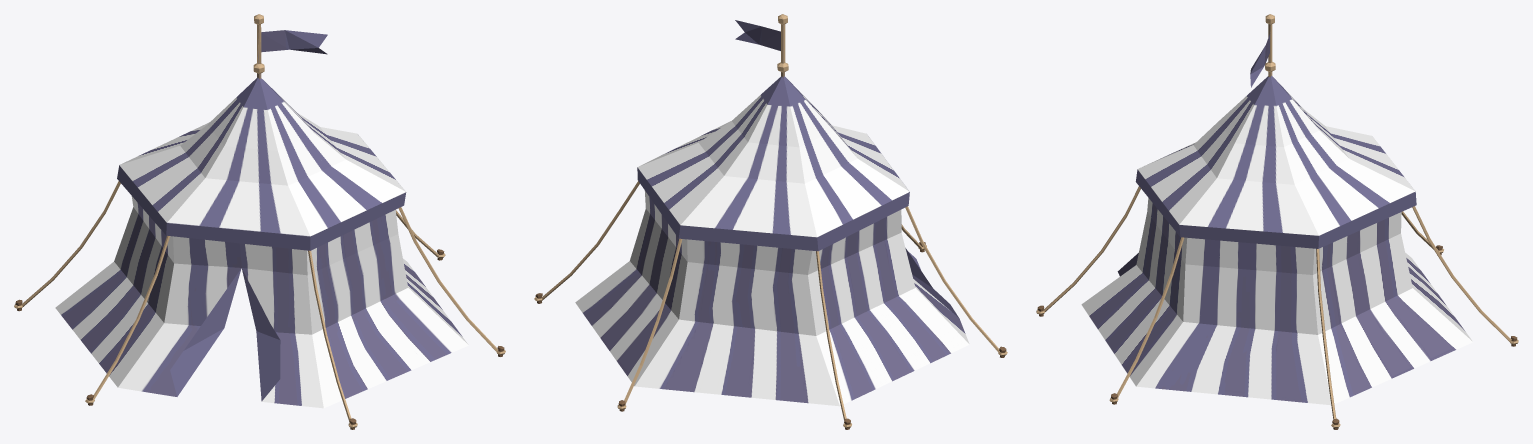
Rendered from tent1_lev1.glb.
The picture shows the model from 3 angles, left to right: view 1: azimuth 30°, elevation 25°; view 2: azimuth 150°, elevation 25°; view 3: azimuth 270°, elevation 25°; orthographic projection. The views are drawn at different scales.
Visible parts, largest first — view 1: tent_pirple; view 2: tent_pirple; view 3: tent_pirple.
Part boxes in pixels (left/top/right/bottom): tent_pirple: left=14, top=14, right=505, bottom=429; tent_pirple: left=534, top=14, right=1007, bottom=429; tent_pirple: left=1036, top=14, right=1518, bottom=429.
Bounding box in the file's own units: 98.79 × 72.22 × 101.
Materials: 1 (1 with a texture image).
